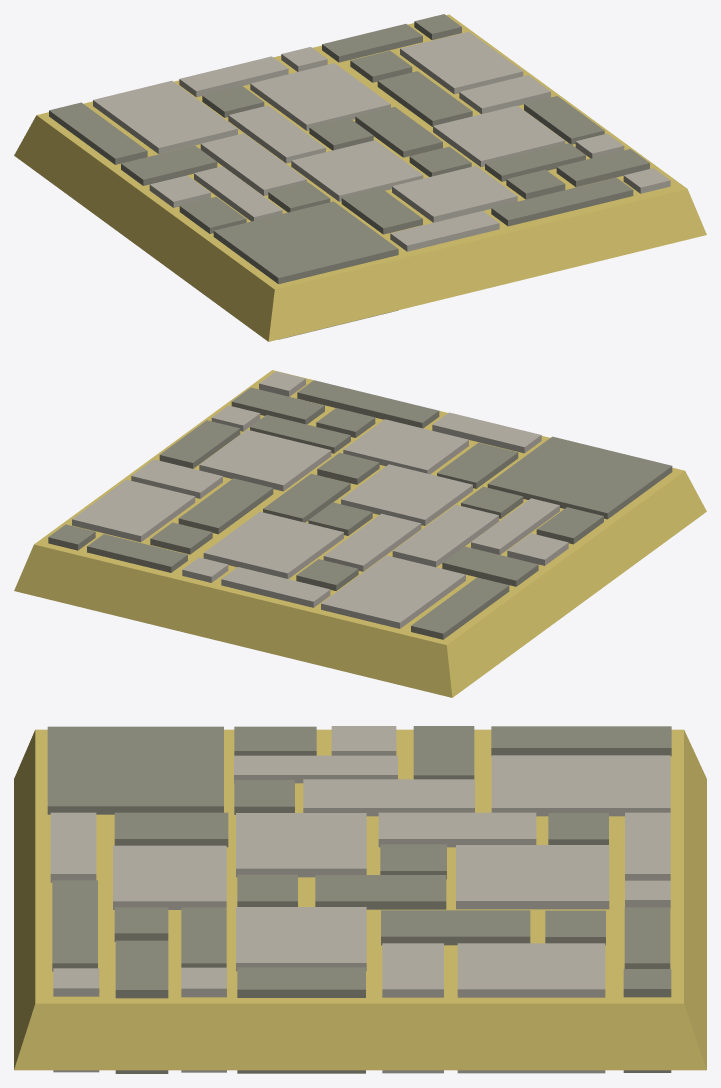
The model's file is FourWayFilled.fbx.
3 views of the same model, one above another, from view 1: azimuth 30°, elevation 25°; view 2: azimuth 150°, elevation 25°; view 3: azimuth 270°, elevation 25° (orthographic). The views are drawn at different scales.
Visible parts, largest first — view 1: Stone - Four Way Filled; view 2: Stone - Four Way Filled; view 3: Stone - Four Way Filled.
Part boxes in pixels (x1=…): Stone - Four Way Filled: x1=14, y1=14, x2=706, y2=341; Stone - Four Way Filled: x1=14, y1=370, x2=706, y2=697; Stone - Four Way Filled: x1=14, y1=726, x2=706, y2=1073.
Size of the model in its own units: 106 by 14.29 by 107.
